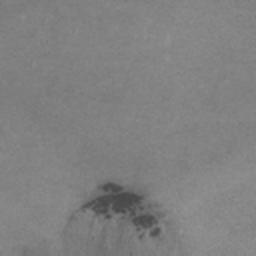Iron sheet ash: (79, 182, 161, 242)
